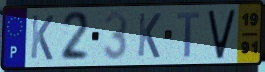2: (60, 10, 92, 65)
3: (101, 9, 130, 64)
K: (136, 11, 163, 60), (29, 13, 56, 62)
T: (176, 11, 202, 59)
V: (206, 7, 238, 61)
